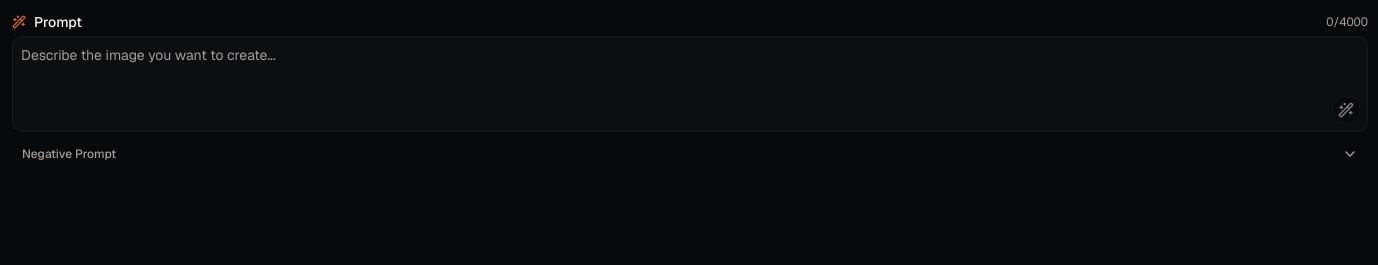
PromptSection › negative prompt EnhanceButton disabled state › enables negative enhance button when negative prompt has content
The image size is (1378, 265).
// Open negative prompt section
Step 1. Click the button with test id "negative-prompt-toggle" → (69, 154), box [12,138,1368,170]
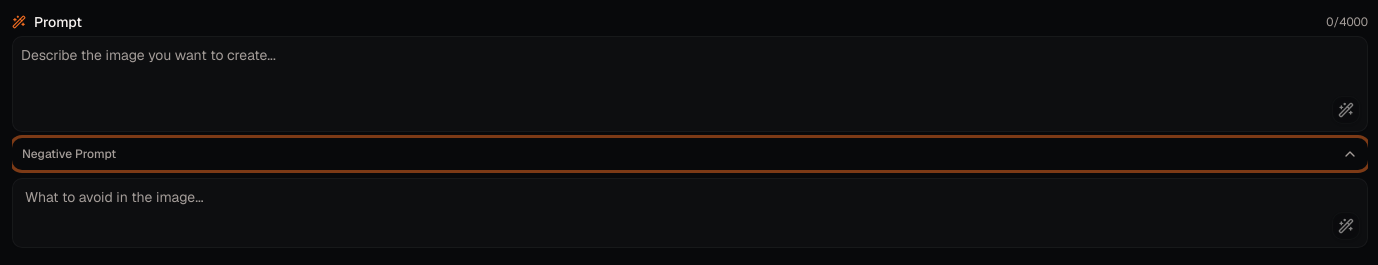
// Type in negative prompt
Step 2. Type "blurry, low quality" into the text box with test id "negative-prompt-input" → (690, 213), box [12,178,1368,248]
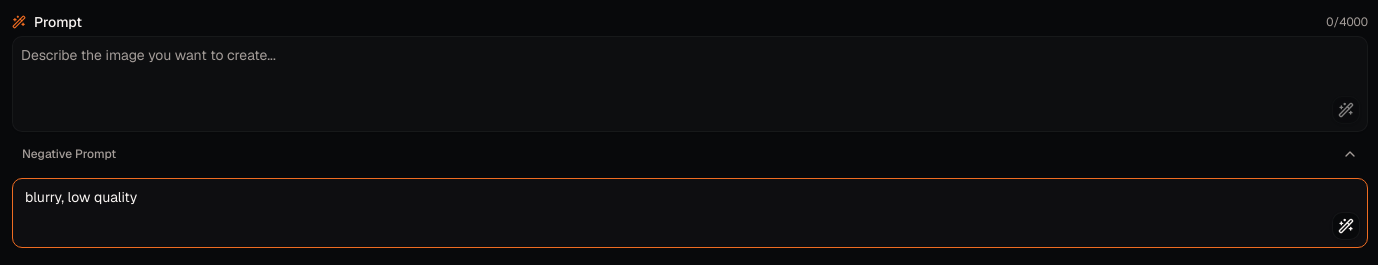
Expected: the 2nd button named "Enhance with AI" is enabled, [1332,212,1360,240]
